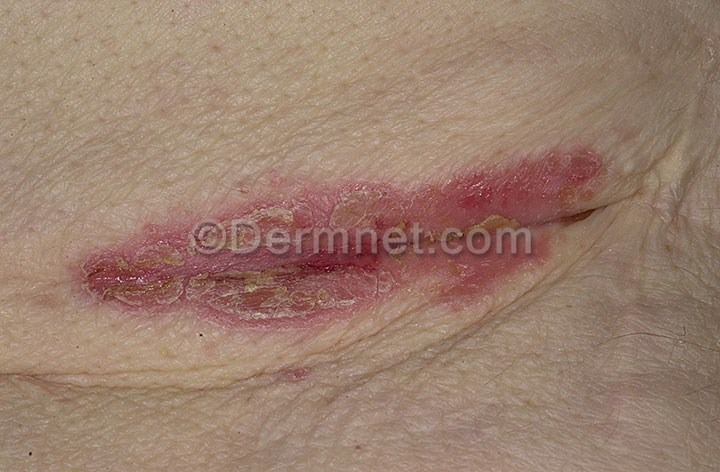Psoriasis: (61, 148, 631, 333)
